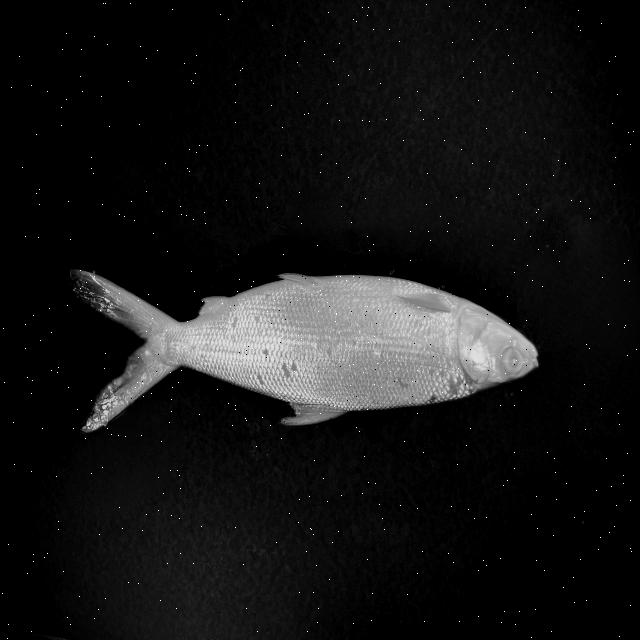710 g: (70, 269, 538, 433)
